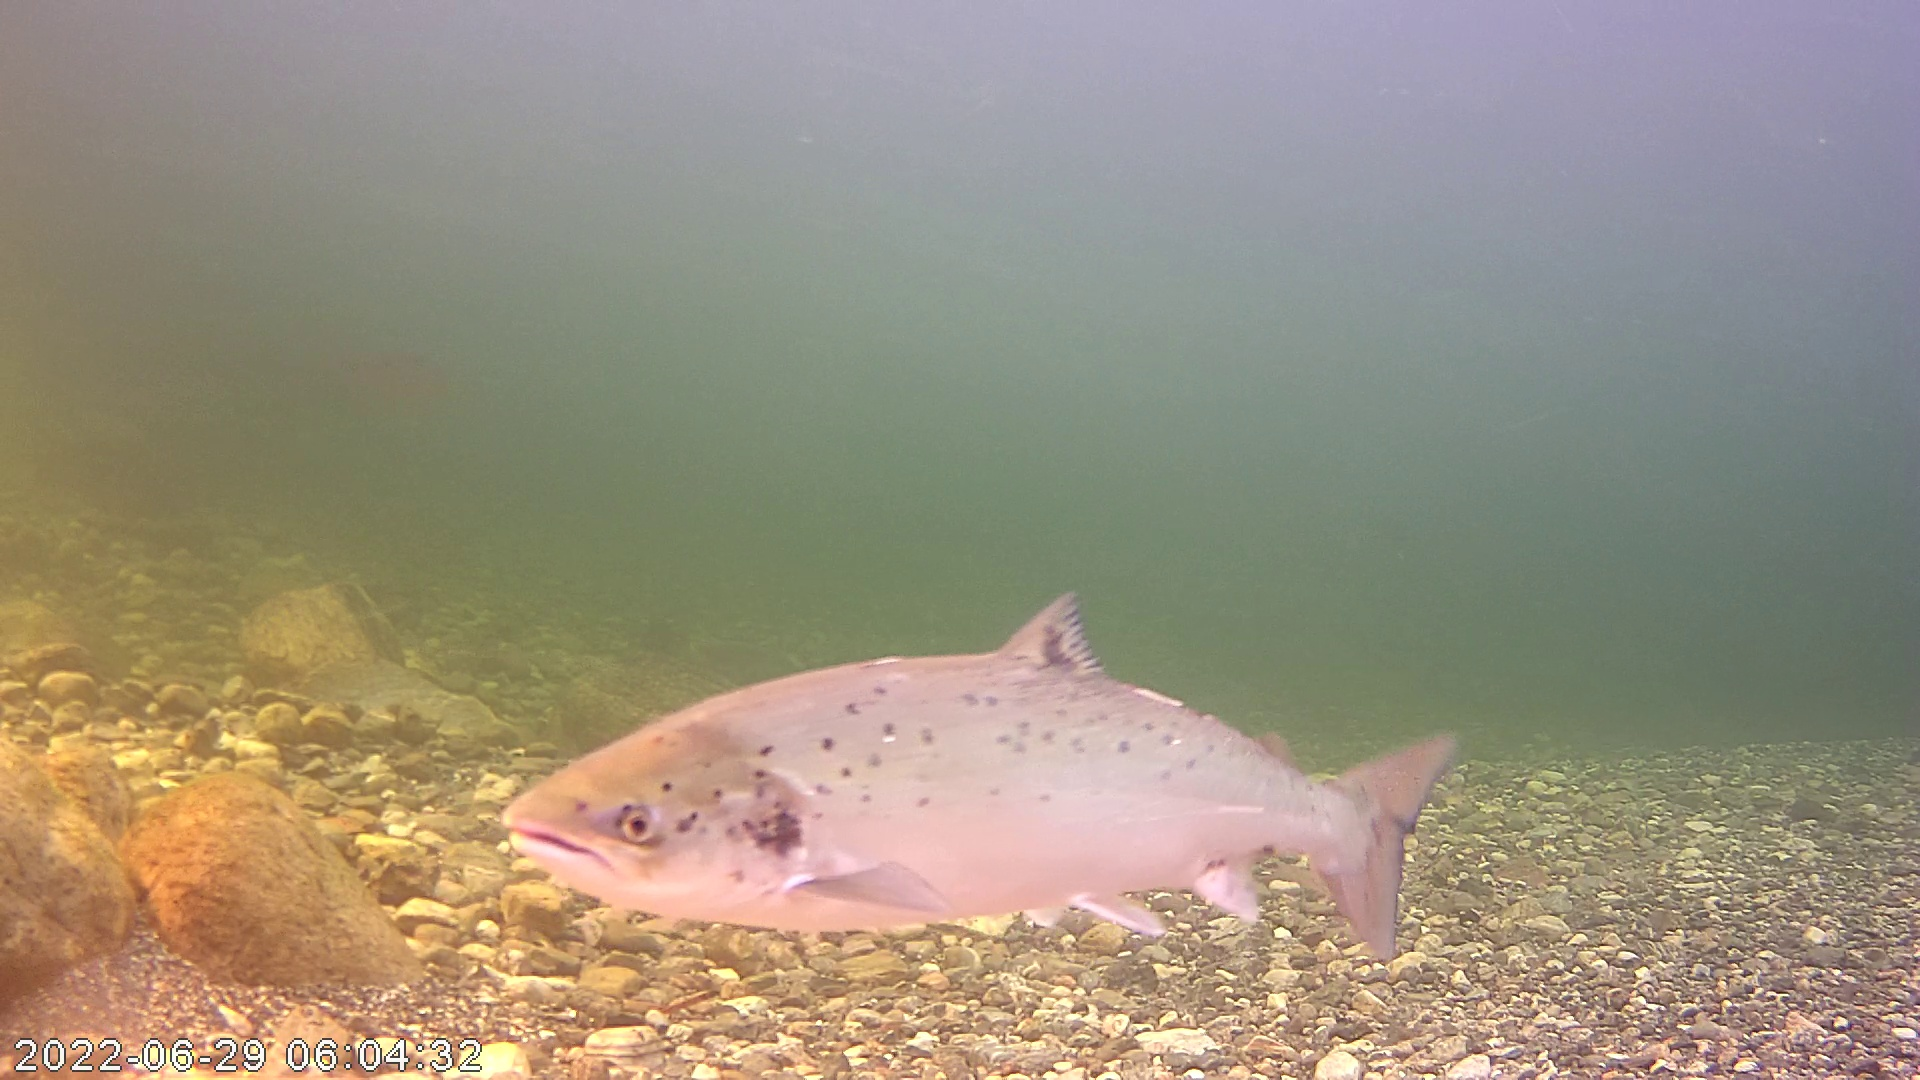salmon: (521, 549, 1452, 956)
